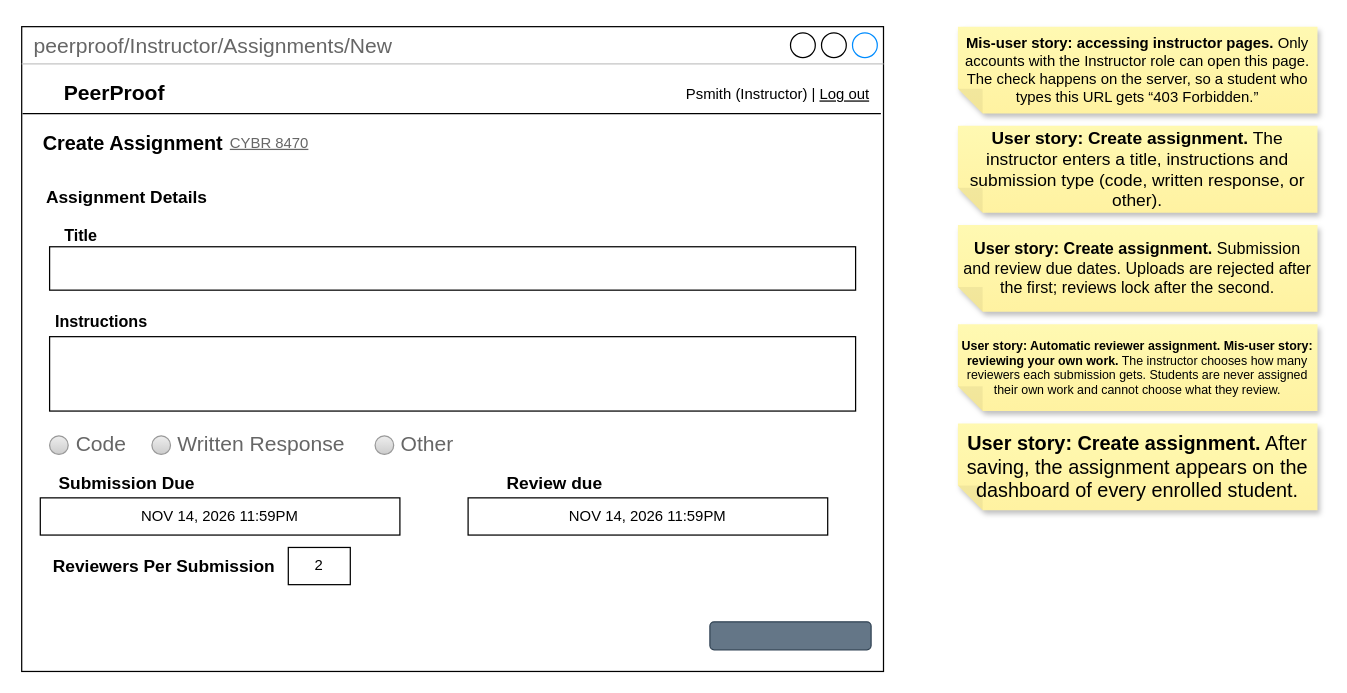
This 1347x693 diagram has some shape labels left out. Here are the shapes that lost their labels. From the top down, the centre of each, then its label:
point 452,268: Lab 4: Imputation
point 452,373: Write a form handler that validates user input before saving it
point 790,635: Save Assignment
